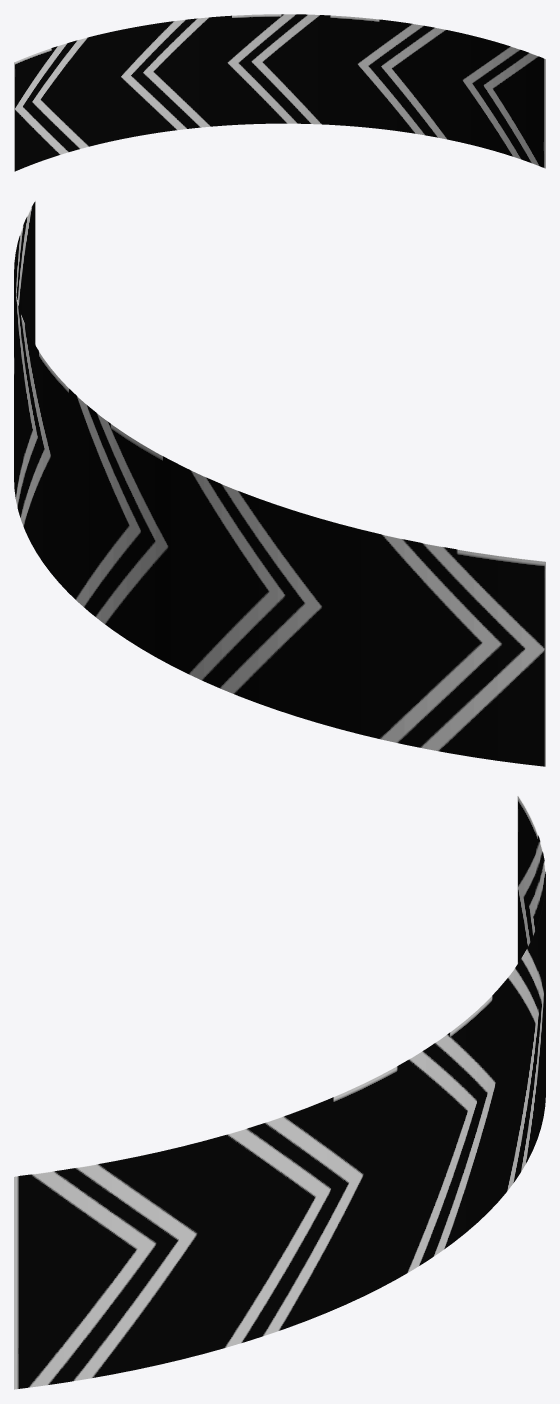
Rendered from TurnR.fbx.
3 renders of one model, top to bottom at view 1: azimuth 30°, elevation 25°; view 2: azimuth 150°, elevation 25°; view 3: azimuth 270°, elevation 25°, orthographic. The views are drawn at different scales.
Visible parts, largest first — view 1: Plane.002; view 2: Plane.002; view 3: Plane.002.
Boxes of the visible parts, x1=… form: Plane.002: x1=14, y1=14, x2=545, y2=171; Plane.002: x1=14, y1=200, x2=545, y2=766; Plane.002: x1=14, y1=795, x2=545, y2=1389.
Size of the model in its own units: 770 by 200 by 454.
